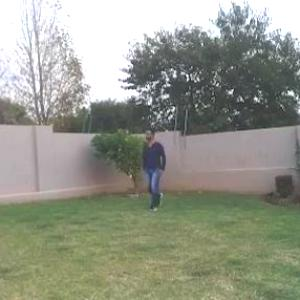follow: (142, 125, 170, 214)
